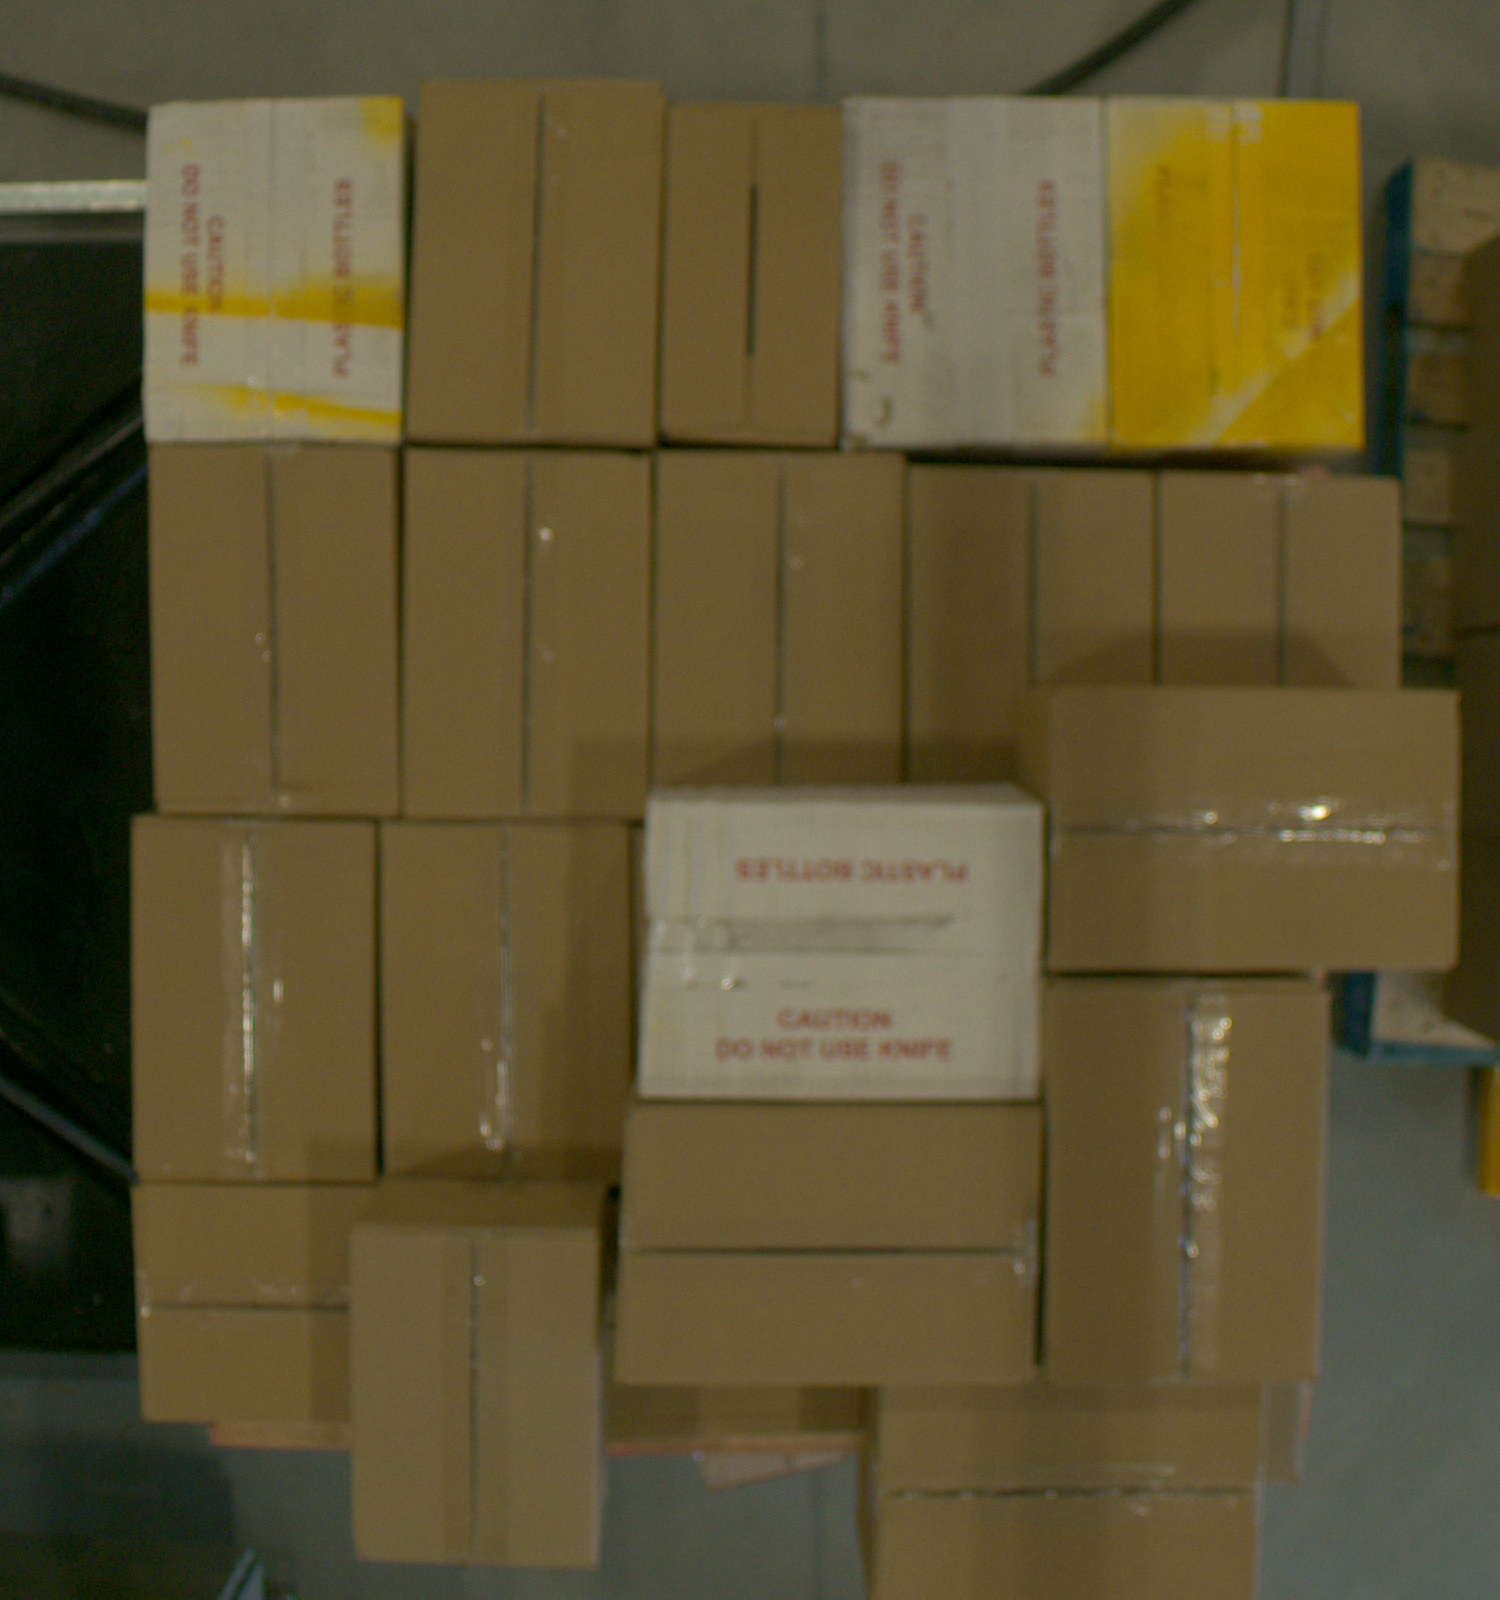box top: (640, 802, 1042, 1098), (1052, 687, 1461, 976), (620, 1109, 1040, 1384), (1050, 980, 1327, 1384), (840, 97, 1108, 450), (148, 451, 402, 815), (412, 80, 665, 443), (144, 96, 405, 445), (1109, 97, 1363, 451), (406, 453, 648, 820), (133, 818, 375, 1177), (382, 827, 630, 1179), (874, 1384, 1266, 1599), (350, 1231, 601, 1565), (653, 455, 901, 787), (909, 469, 1152, 781), (661, 104, 844, 444), (1159, 476, 1406, 689), (134, 1191, 351, 1424)
